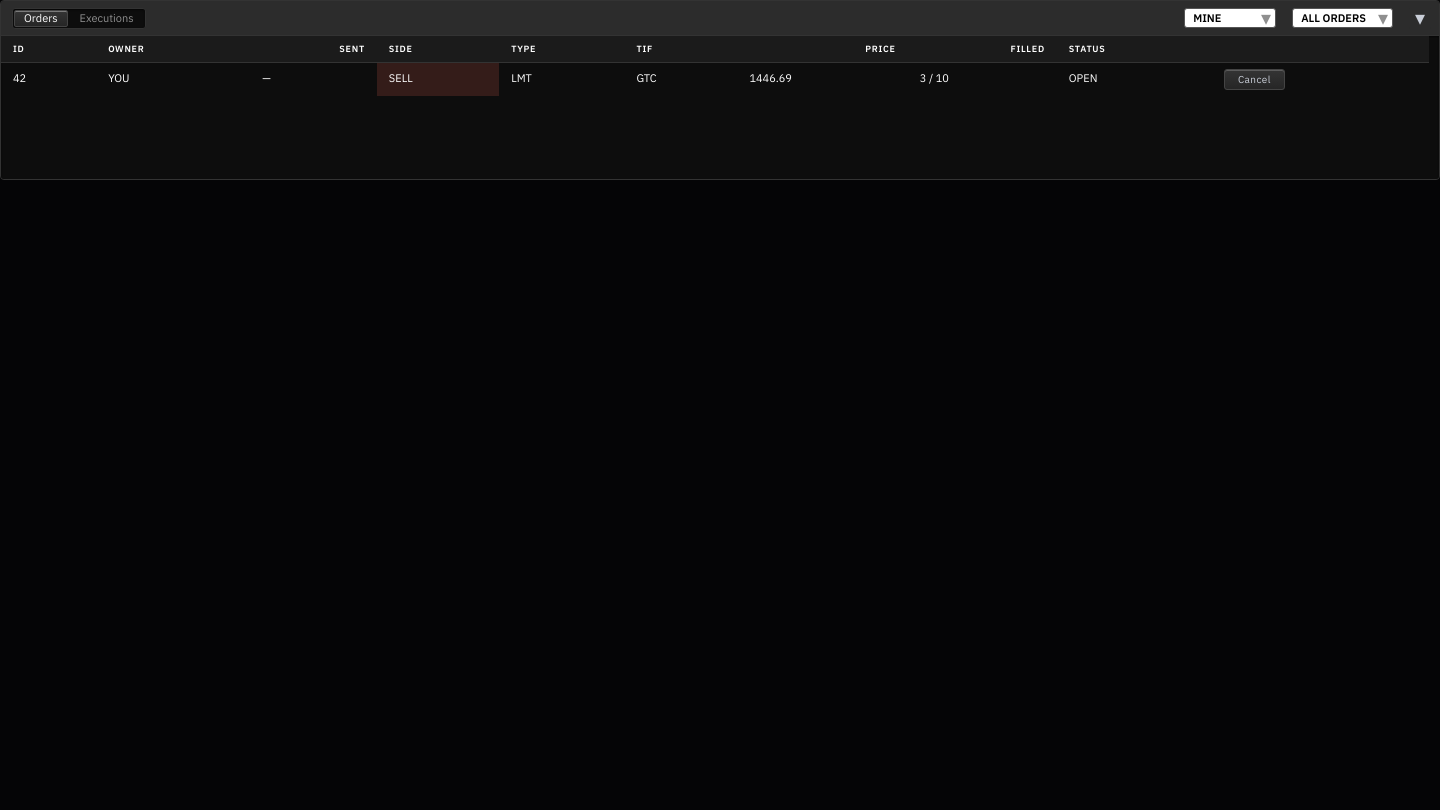
Test: blotter cancel confirmation (D5) › opens the popup on the row Cancel and sends nothing
Step 1. Click the button with test id "cancel-42" → x=1254, y=79, box [1224, 69, 1285, 90]
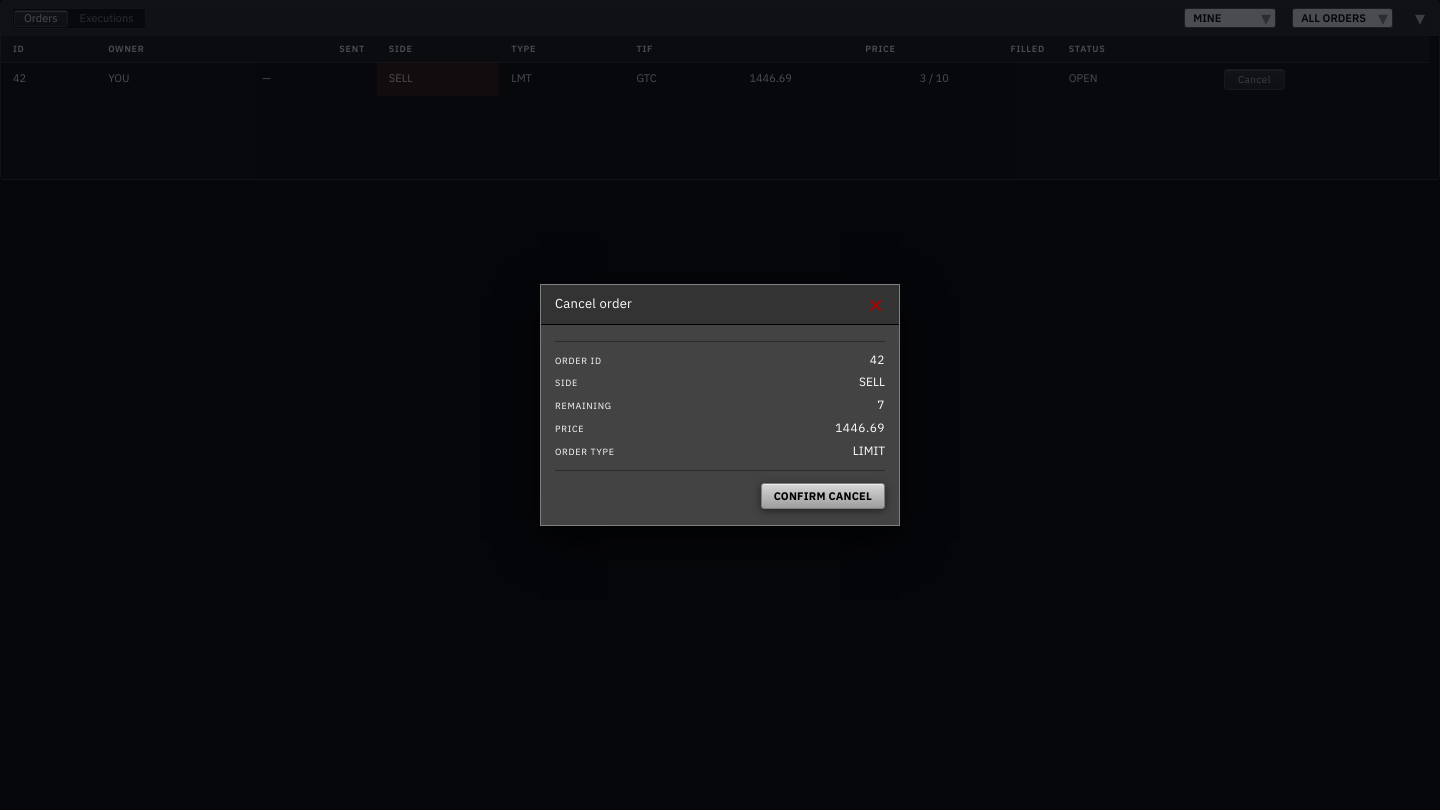
Now the text with test id "cancel-confirm-id" reads "42", box [870, 352, 885, 367]
Now the dialog "Cancel order" shows "SELL", box [859, 374, 885, 389]
Now the dialog "Cancel order" shows "7", box [877, 397, 885, 412]
